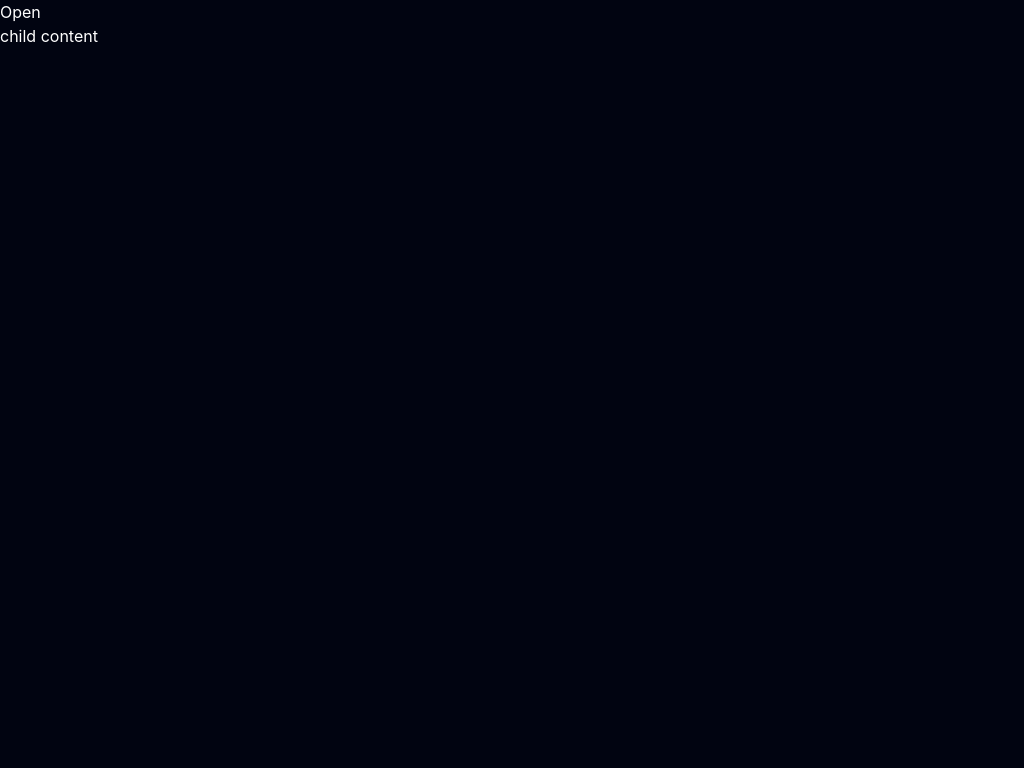
CommandPalette › opening and closing › closes when clicking the backdrop
The width and height of the screenshot is (1024, 768).
Step 1. Press k
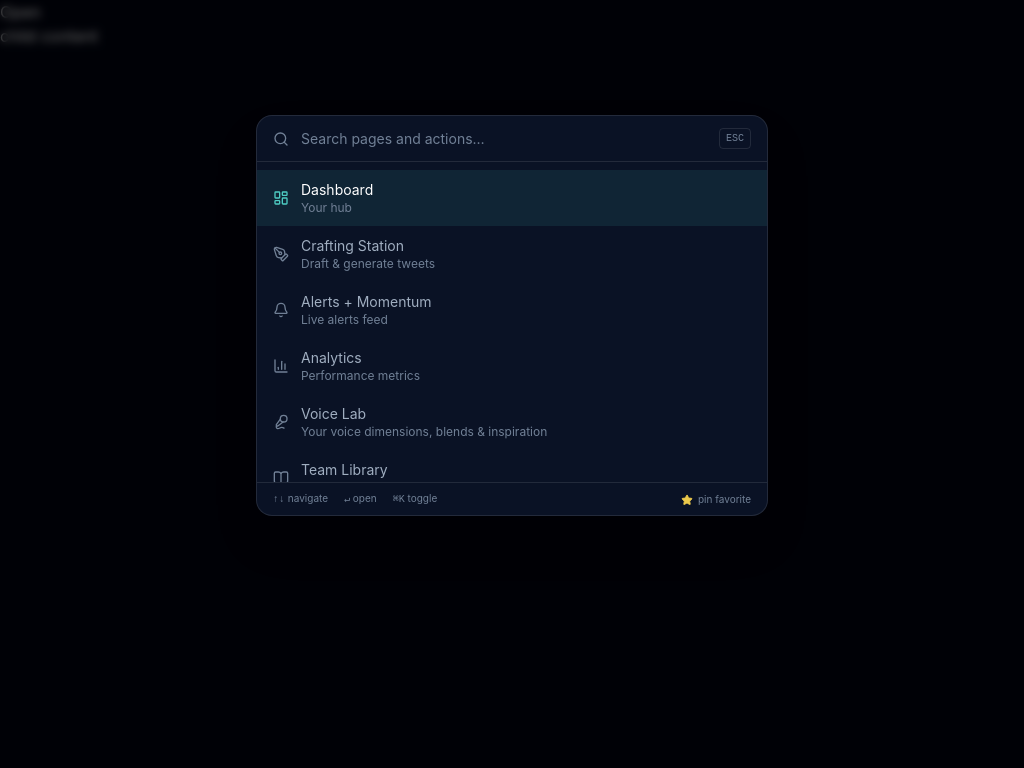
Result: the 1st element with class "inset-0" is shown
Step 2. Click the 1st element with class "inset-0" → click(61, 384), box x1=0 y1=0 x2=1023 y2=767
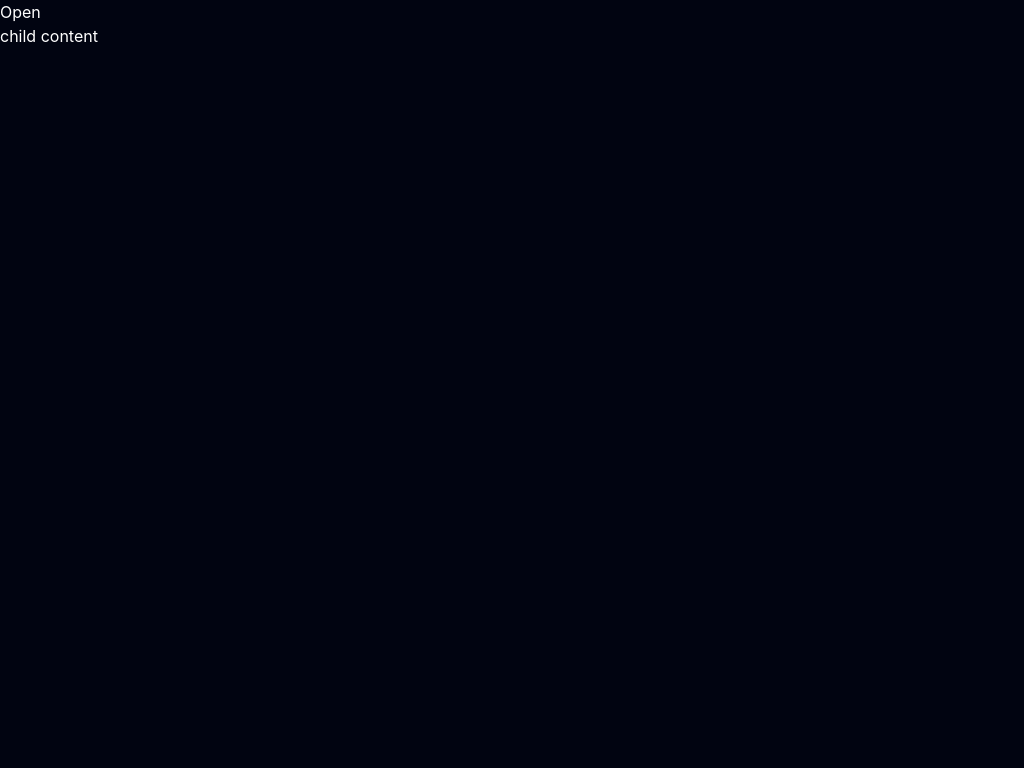
Result: the dialog is gone
